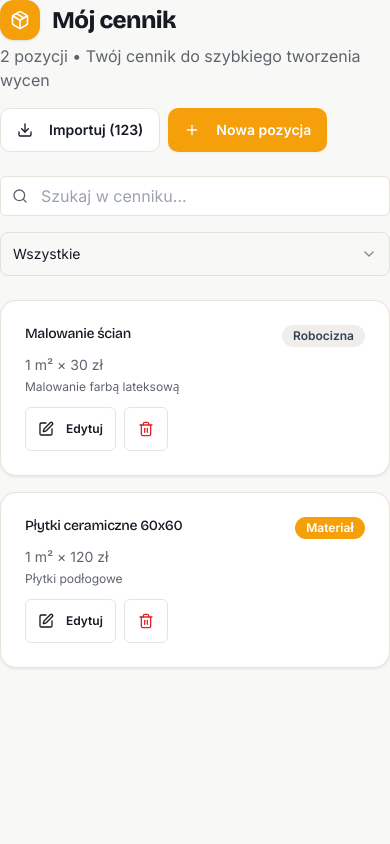
ItemTemplates › delete template › should open delete AlertDialog when the delete icon button is clicked
This screenshot has width=390, height=844.
Click the button named "Usuń" below "Malowanie farbą lateksową".
click(146, 429)  # box [124,407,168,451]
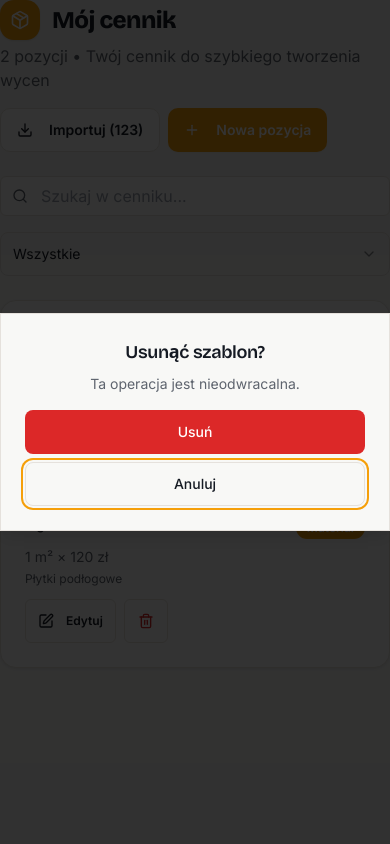
Now the dialog is shown, box [0,313,389,531]
